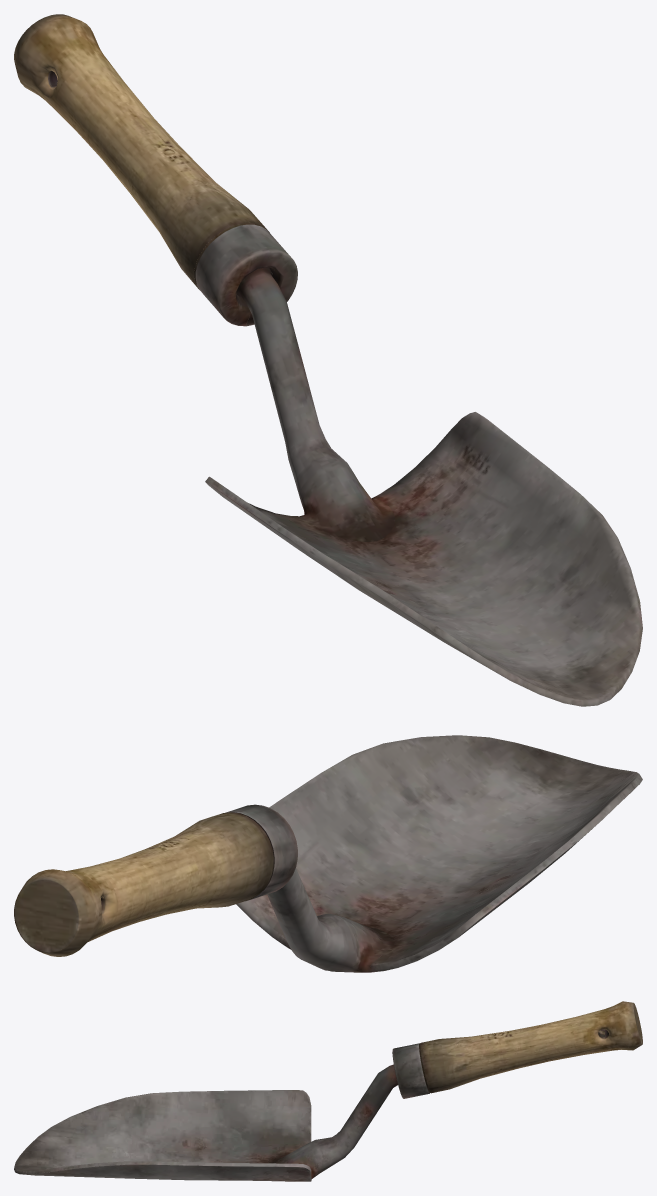
The model's file is trowel_01.glb.
The picture shows the model from 3 angles, top to bottom: view 1: azimuth 30°, elevation 25°; view 2: azimuth 150°, elevation 25°; view 3: azimuth 270°, elevation 25°; orthographic projection. The views are drawn at different scales.
Visible parts, largest first — view 1: trowel_01; view 2: trowel_01; view 3: trowel_01.
Part boxes in pixels (x1,y1,x2,y2): trowel_01: (14, 14, 642, 706); trowel_01: (14, 735, 642, 972); trowel_01: (14, 1001, 642, 1181).
Bounding box in the file's own units: 0.0992 × 0.1026 × 0.3469.
Materials: 1 (1 with a texture image).
